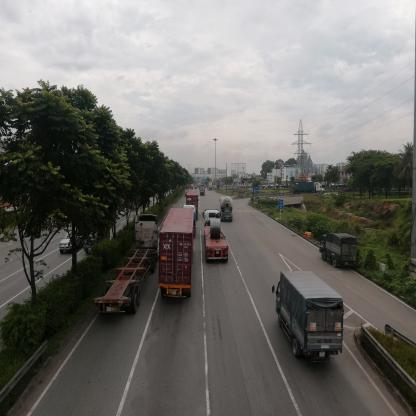container: (119, 216, 157, 304), (165, 205, 197, 299), (203, 210, 228, 265), (292, 184, 326, 198), (186, 191, 200, 207)
truck: (274, 272, 343, 351), (323, 234, 358, 268), (220, 198, 234, 221)
